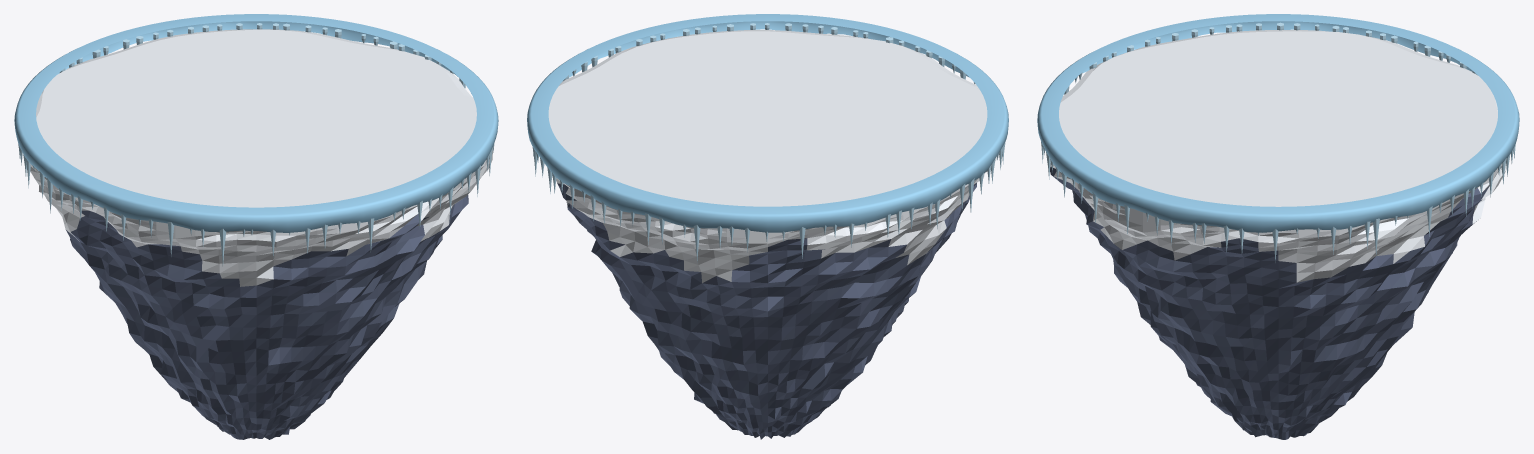
Rendered from SnowballSummitPeak.obj.
3 renders of one model, left to right at view 1: azimuth 30°, elevation 25°; view 2: azimuth 150°, elevation 25°; view 3: azimuth 270°, elevation 25°, orthographic.
Parts seen in each view (by area): view 1: Snow, Rock, Ice, Icicles; view 2: Snow, Rock, Ice, Icicles; view 3: Snow, Rock, Ice, Icicles.
Boxes of the visible parts, x1,y1,x2,y2 form: Snow: (30, 29, 493, 286); Rock: (66, 195, 468, 439); Ice: (14, 14, 498, 232); Icicles: (18, 23, 494, 266); Snow: (548, 30, 996, 283); Rock: (557, 183, 976, 439); Ice: (527, 14, 1008, 232); Icicles: (532, 23, 1005, 262); Snow: (1050, 30, 1506, 282); Rock: (1050, 167, 1489, 439); Ice: (1037, 14, 1519, 232); Icicles: (1041, 22, 1515, 262).
Bounding box in the file's own units: 65 × 46 × 65.
